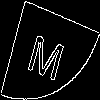M: (25, 24, 69, 83)
